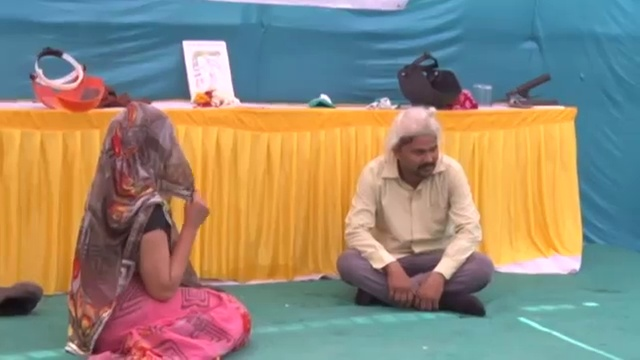helmet_off: (99, 103, 196, 198), (388, 108, 440, 180)
person: (65, 99, 253, 360), (331, 105, 497, 318)
